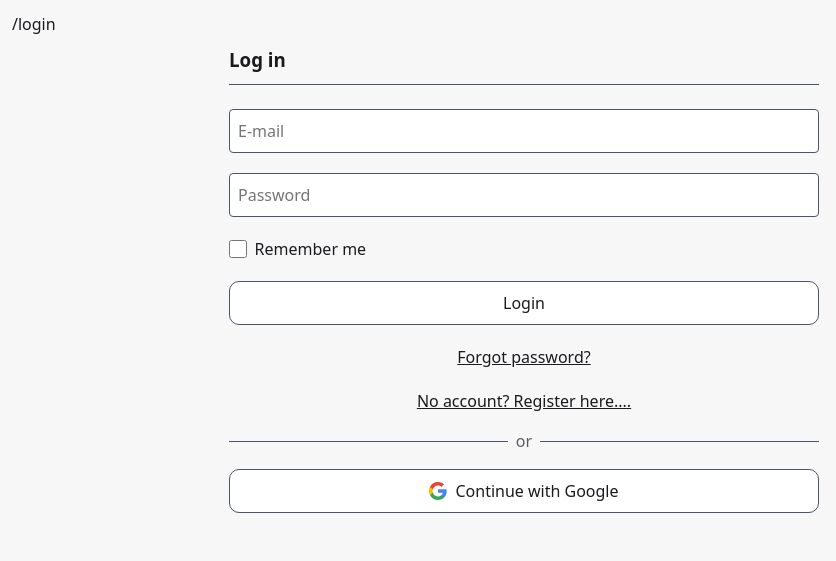
Test: LoginPage › validates a field on blur and gates the submit button on errors
The width and height of the screenshot is (836, 561).
In the field labelled "E-mail": {"x": 524, "y": 131} [229,109,819,153], type "not-an-email"
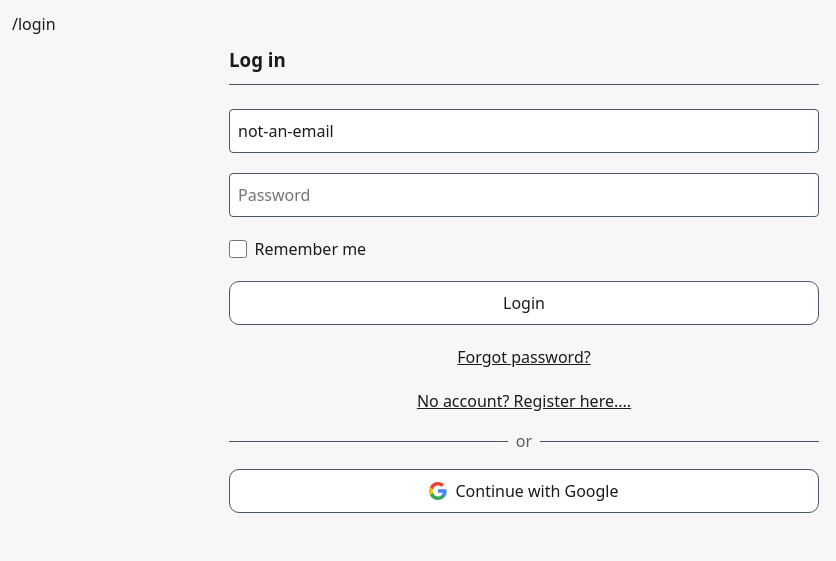
Leave the field named "E-mail", box [229,109,819,153]
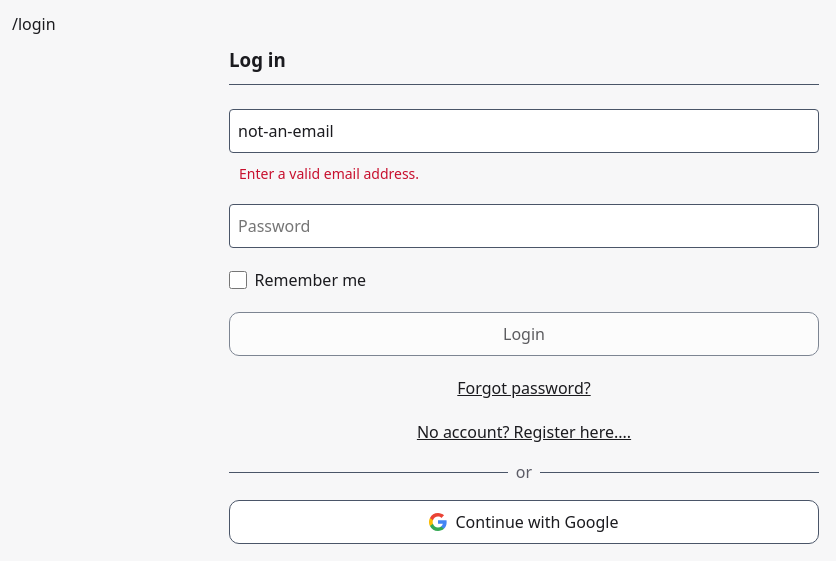
expect the text "Enter a valid email address." is shown: met, box [239,164,419,183]
expect the button "Login" is disabled: met, box [229,312,819,356]
